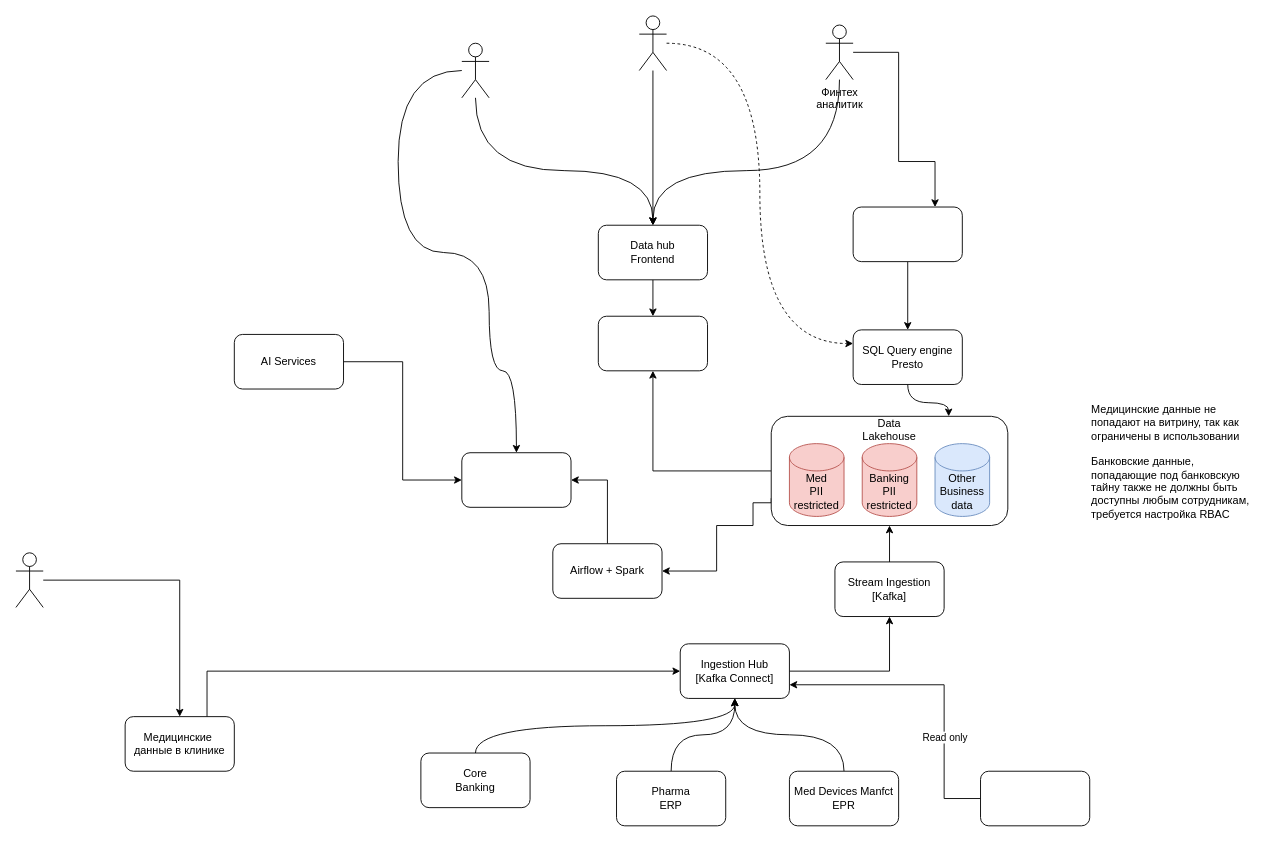
Some shapes in this 1269 by 842 pixel diagram are drawn without their labels. Each missing label, with the centre of its shape:
"Data hub Server" goes at point (652, 343).
"Feature store" goes at point (516, 479).
"Legacy SQL Server DWH 2008" goes at point (1035, 798).
"Power BI" goes at point (907, 234).
"Бизнес пользователь" goes at point (652, 43).
"Врач" goes at point (29, 579).
"Дата сайенс команда" goes at point (475, 70).
